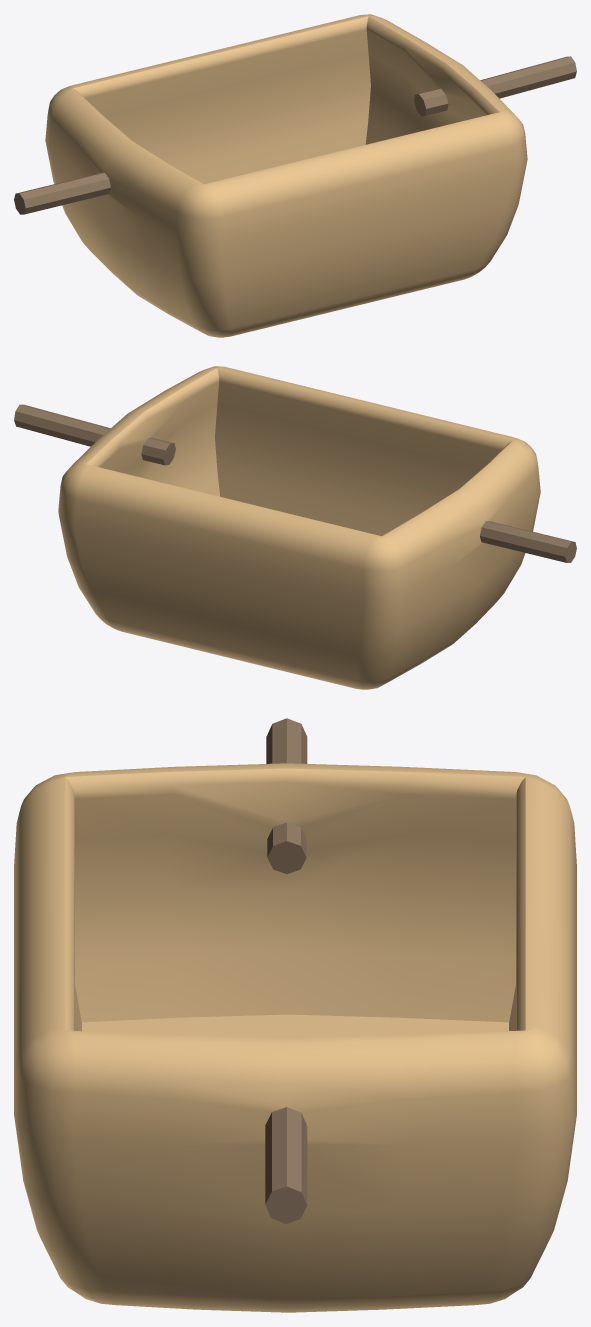
The model's file is basket_02.fbx.
3 views of the same model, one above another, from view 1: azimuth 30°, elevation 25°; view 2: azimuth 150°, elevation 25°; view 3: azimuth 270°, elevation 25° (orthographic). The views are drawn at different scales.
Visible parts, largest first — view 1: basket_01; view 2: basket_01; view 3: basket_01.
Boxes of the visible parts, x1,y1,x2,y2 form: basket_01: (14, 14, 576, 337); basket_01: (14, 366, 576, 689); basket_01: (14, 718, 576, 1312).
Size of the model in its own units: 231 by 67.89 by 117.
